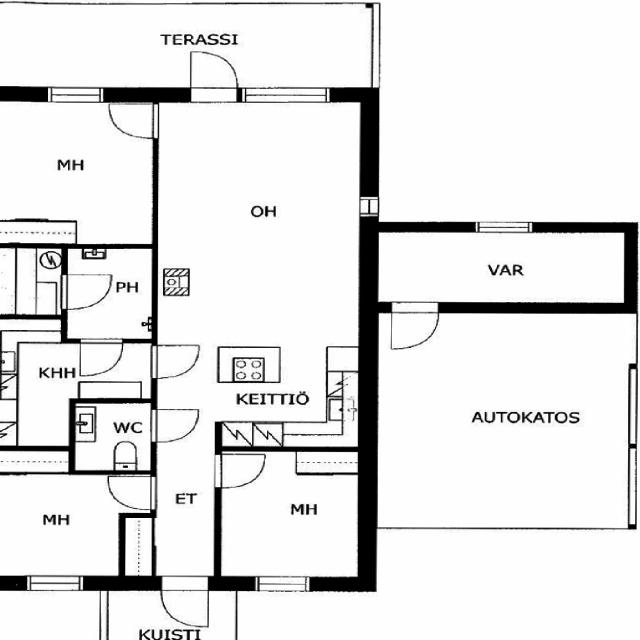door: (190, 49, 237, 102), (161, 577, 208, 628), (391, 303, 438, 350), (106, 104, 156, 138), (61, 275, 111, 309), (214, 454, 263, 488), (80, 338, 122, 376), (108, 476, 156, 509), (150, 346, 198, 378), (151, 410, 197, 441)
